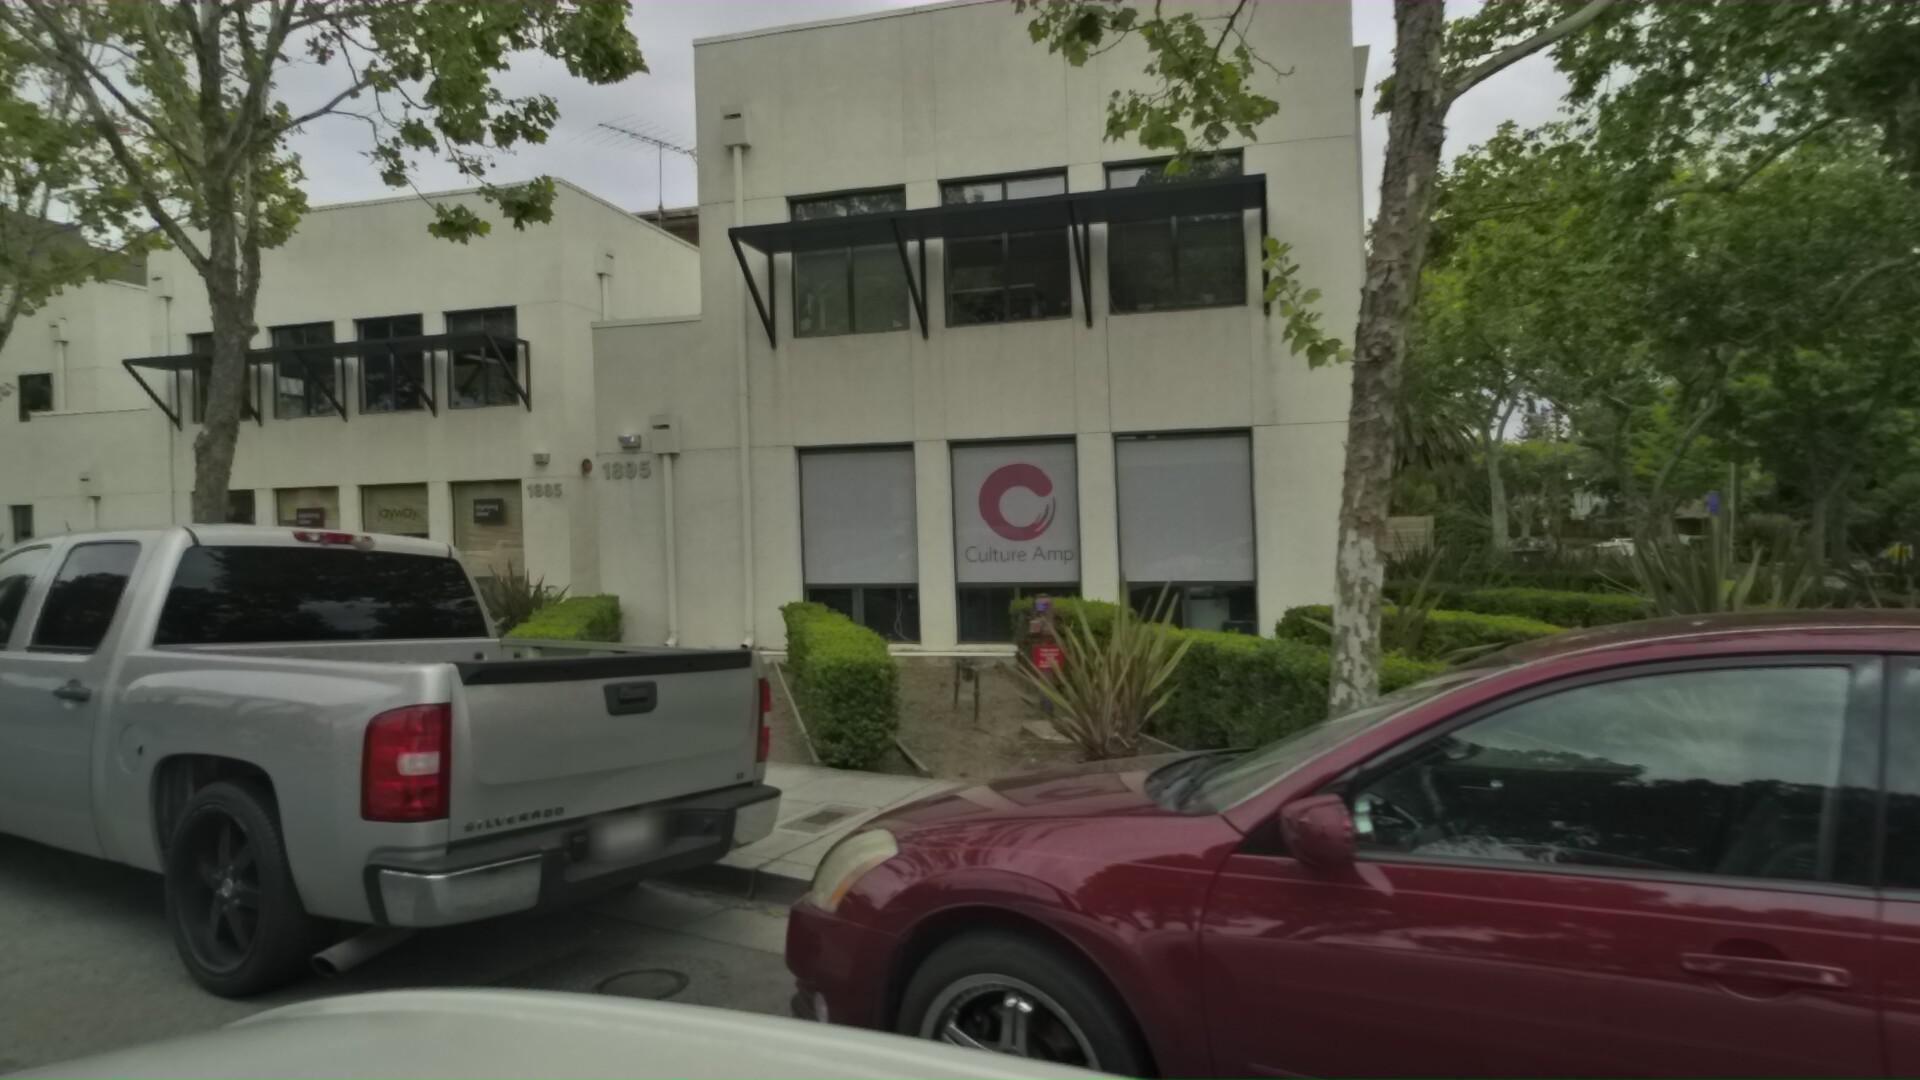car: (779, 555, 1920, 1080), (0, 492, 914, 1080), (1577, 527, 1693, 585), (1600, 525, 1658, 556)
